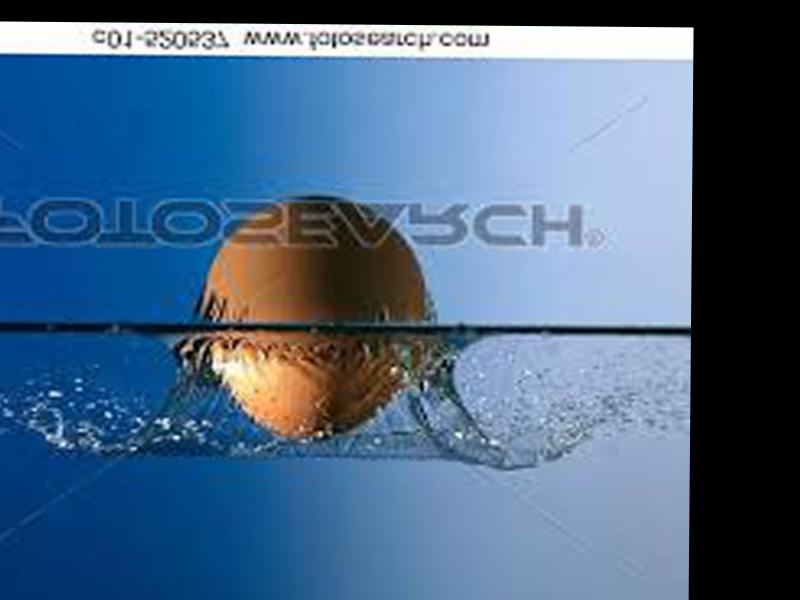Eggs: (202, 198, 429, 443)
